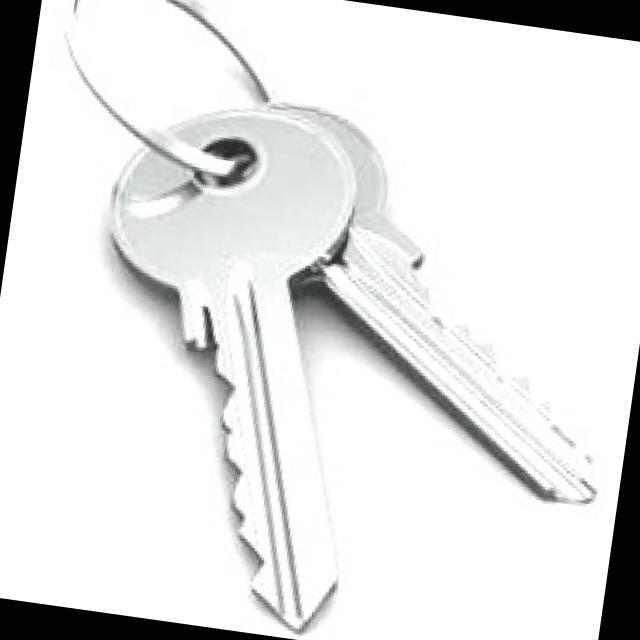Keys: (113, 104, 595, 628), (272, 105, 596, 502), (113, 109, 355, 629)
